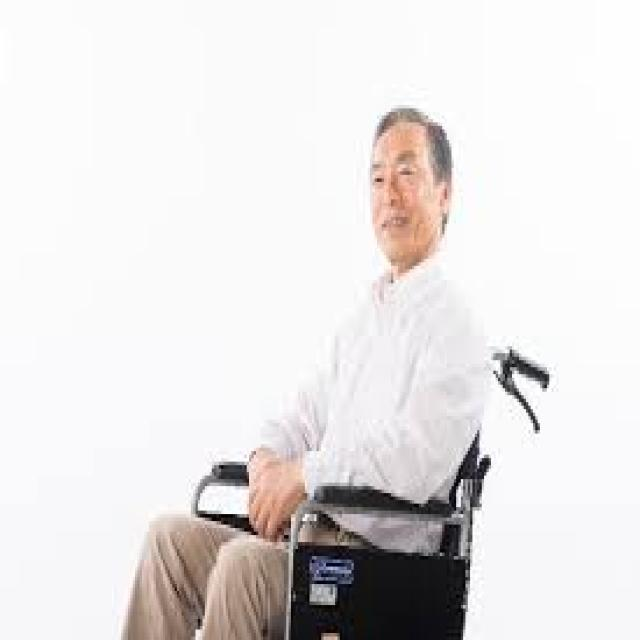wheelchairs: (177, 315, 547, 636)
